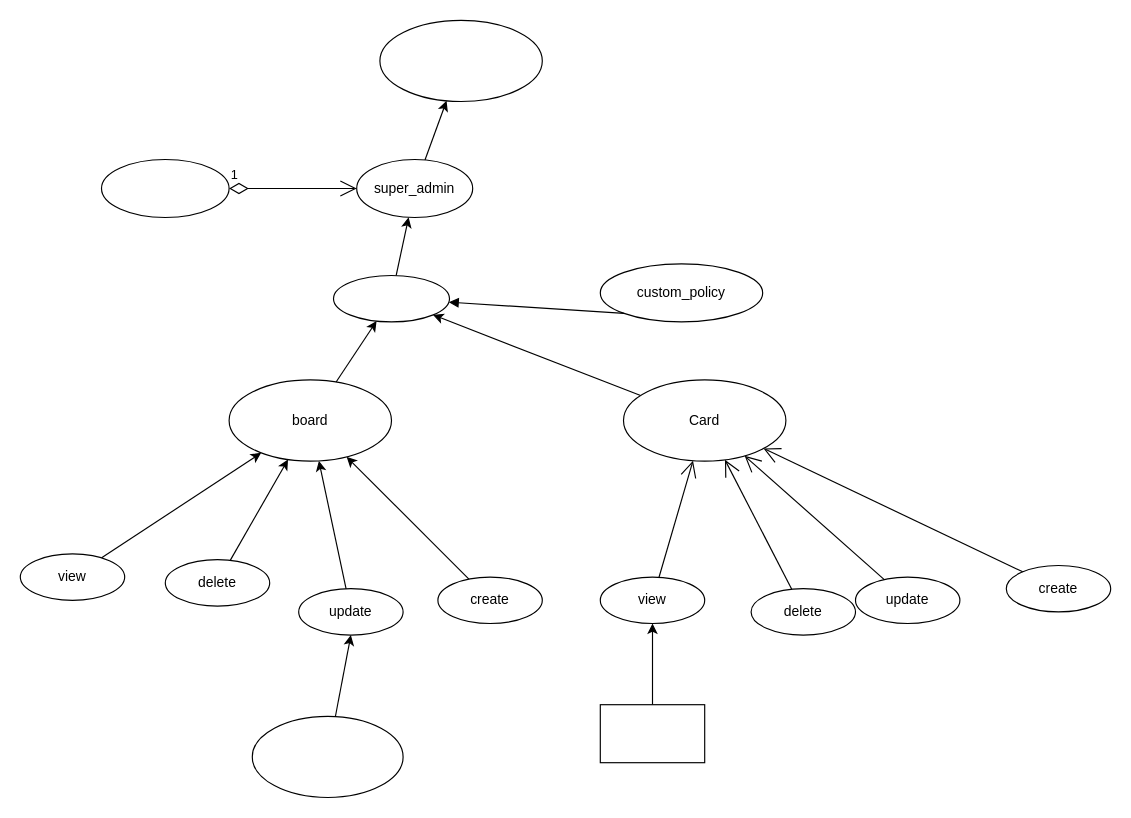
Some shapes in this 1131 by 818 pixel diagram are drawn without their labels. Each missing label, with the box of its shape:
base_policy: (332, 274, 449, 322)
CardList: (251, 715, 403, 798)
mate: (100, 158, 229, 217)
Role: (379, 19, 542, 102)
viewVerify: (599, 704, 705, 763)
